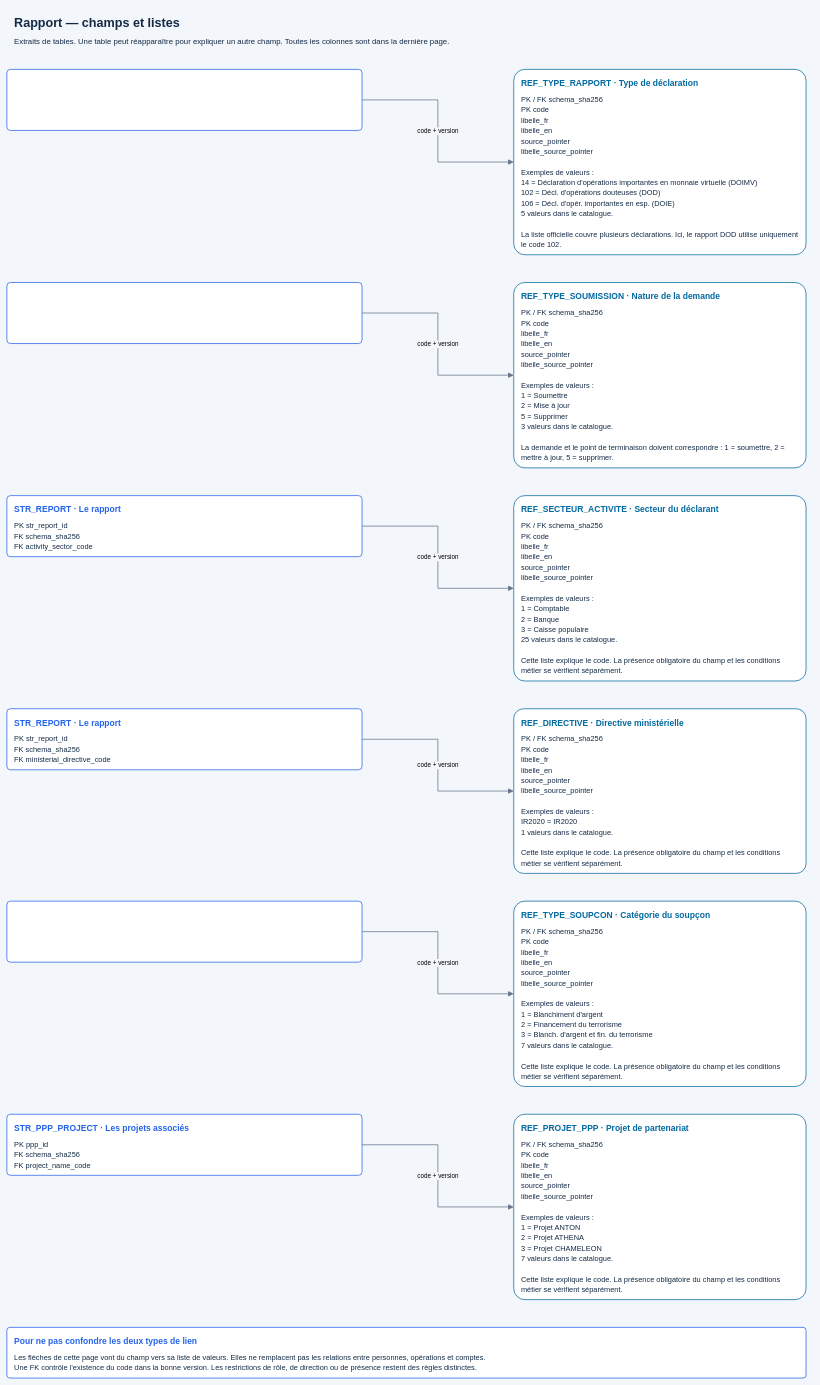
Some shapes in this 820 by 1385 pixel diagram are drawn without their labels. Each missing label, with the centre of its shape:
"STR_REPORT · Le rapport PK str_report_id FK schema_sha256 FK report_type_code" belongs at [184,100].
"STR_REPORT · Le rapport PK str_report_id FK schema_sha256 FK submit_type_code" belongs at [184,313].
"STR_REPORT · Le rapport PK str_report_id FK schema_sha256 FK suspicion_type_code" belongs at [184,931].
